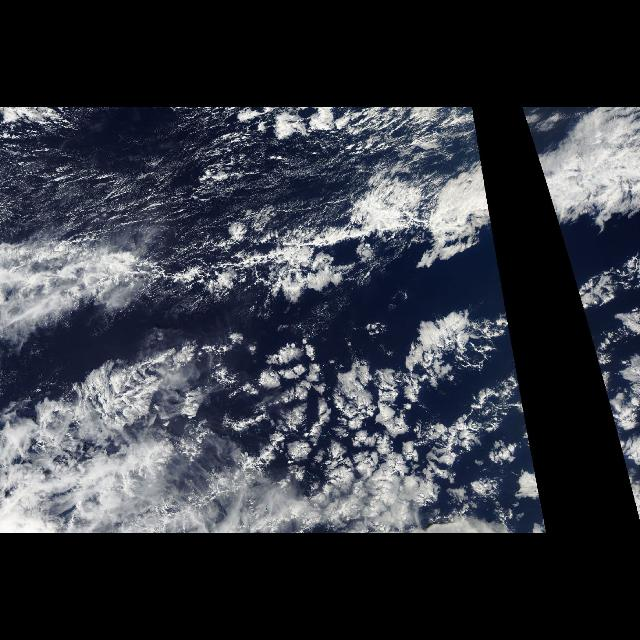Fish: (38, 191, 488, 311)
Flower: (244, 308, 506, 524)
Sugar: (1, 108, 392, 244)
